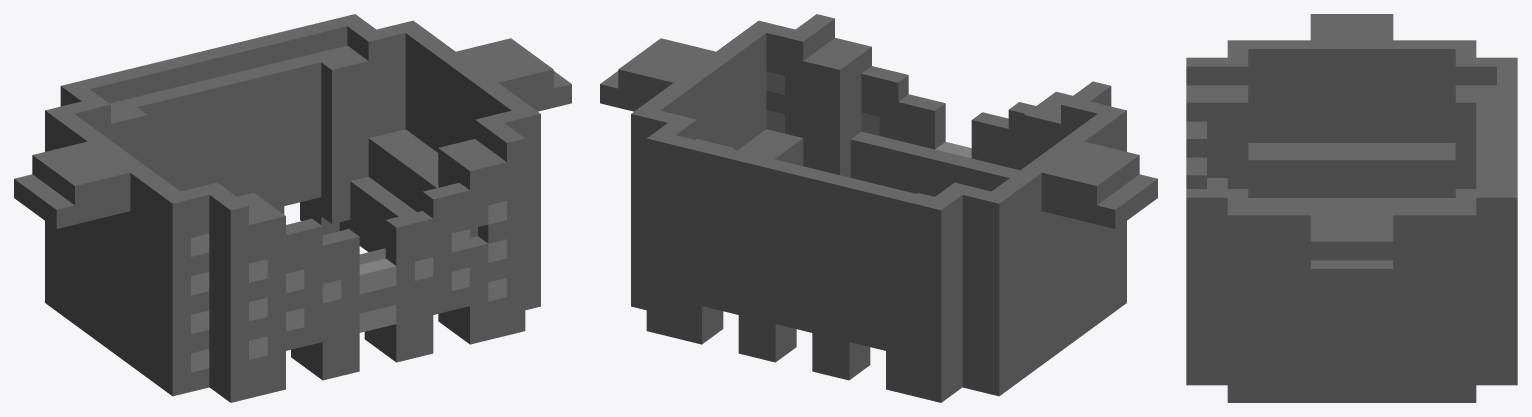
The picture shows the model from 3 angles, left to right: view 1: azimuth 30°, elevation 25°; view 2: azimuth 150°, elevation 25°; view 3: azimuth 270°, elevation 25°; orthographic projection. The views are drawn at different scales.
Parts seen in each view (by area): view 1: 105; view 2: 105; view 3: 105.
Boxes of the visible parts, box(x1,y1,x2,y2) form: 105: box(14, 14, 571, 402); 105: box(600, 14, 1157, 402); 105: box(1186, 14, 1517, 402).
Size of the model in its own units: 280 by 100 by 160.
Materials: 1 (1 with a texture image).
